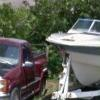Boat: (42, 16, 100, 94)
